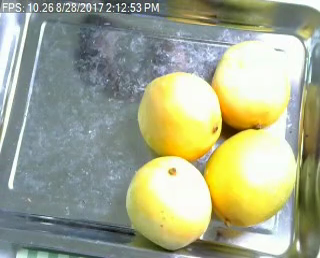Mango: (203, 127, 295, 223), (126, 155, 210, 246), (135, 72, 219, 160), (212, 41, 290, 127)
